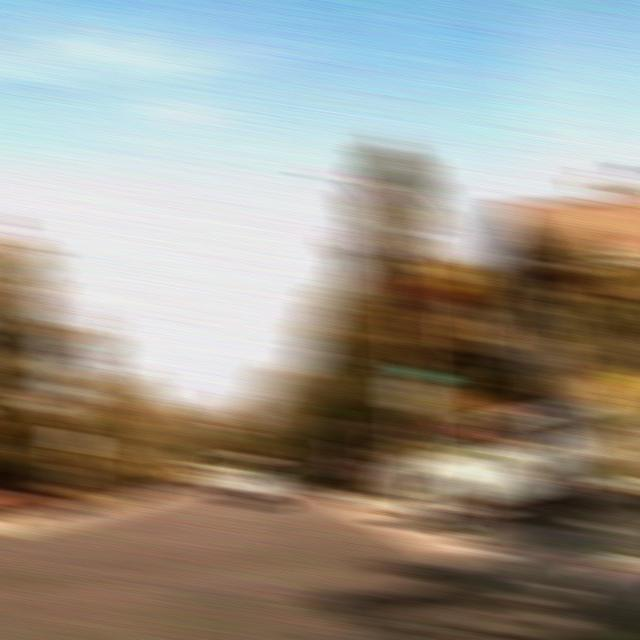speedLimit25: (393, 378, 432, 414)
